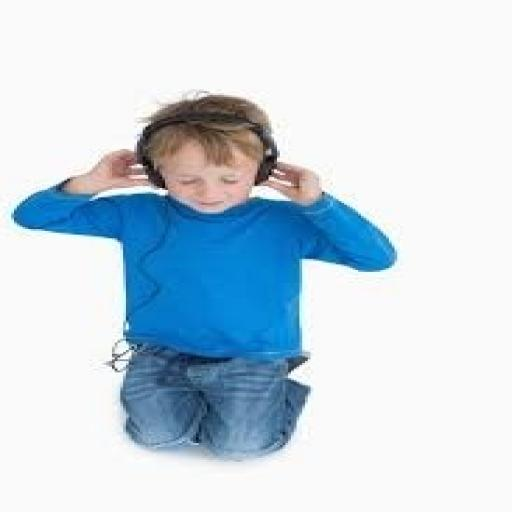listening_to_music: (8, 91, 403, 464)
